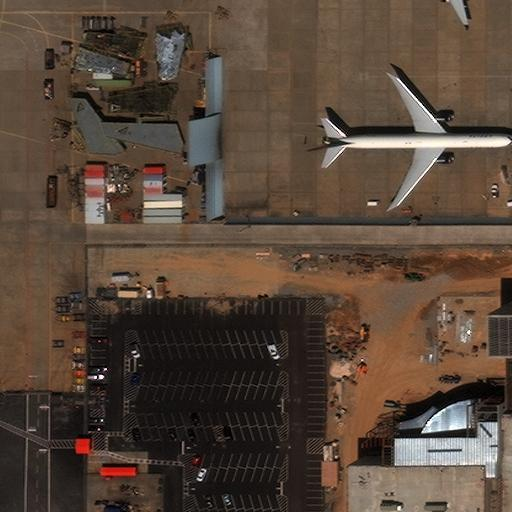Large Civil Transport: (319, 77, 511, 210), (418, 0, 495, 26)
